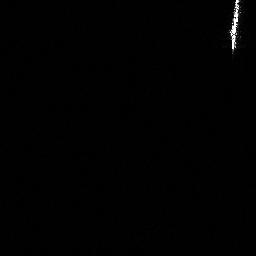ship: (225, 1, 244, 55)
